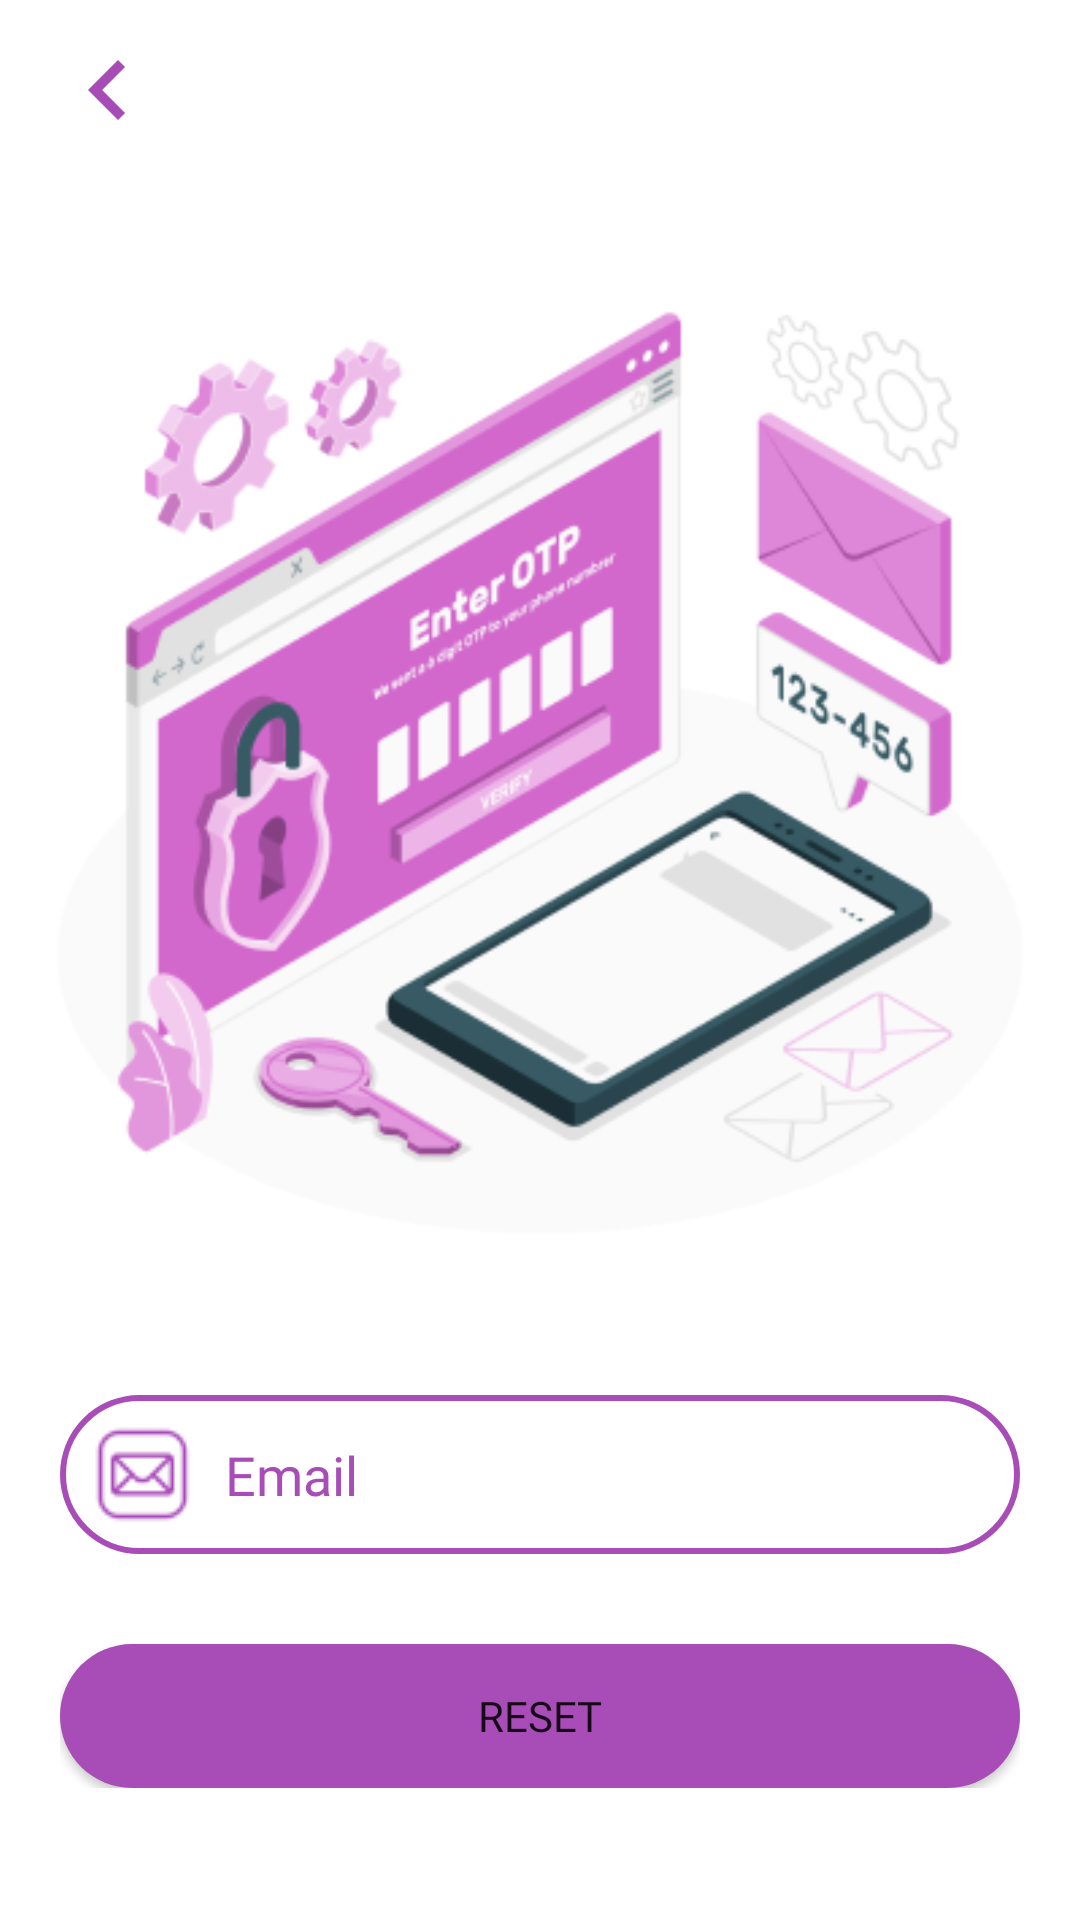

Named icons in this screenshot (1080 × 1920) and their bounding boxes, (x1, y1, x2, y2):
left arrow: (88, 60, 125, 120)
